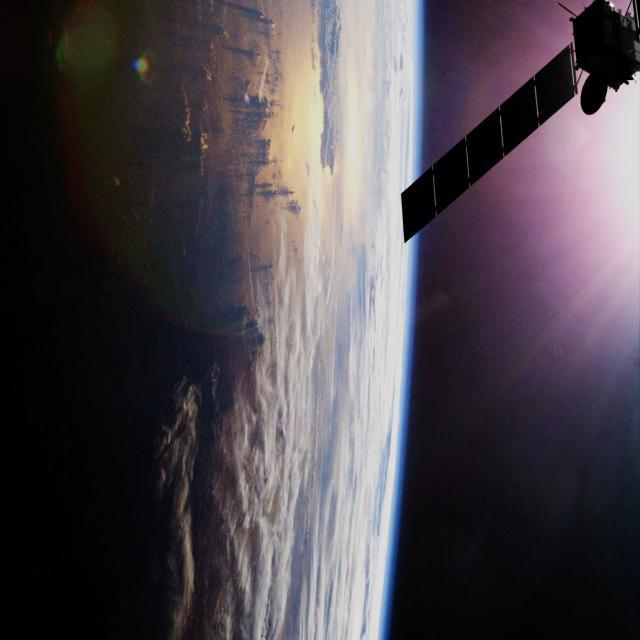satellite: (391, 0, 640, 248)
